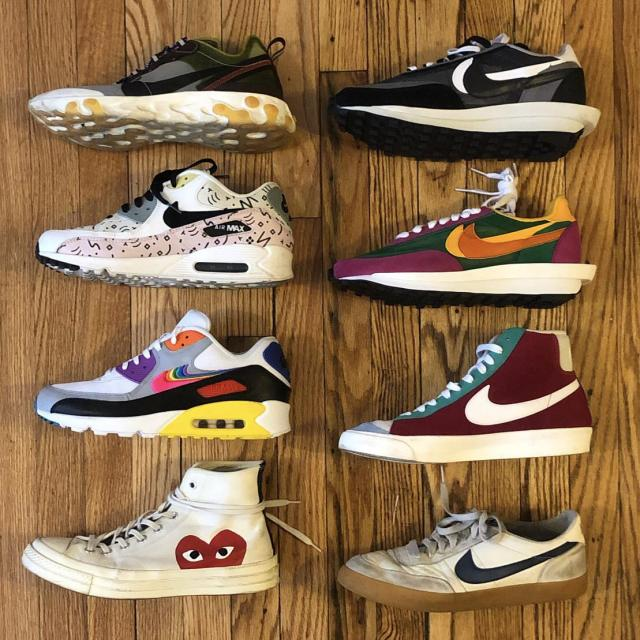shoe: (19, 453, 289, 612), (327, 156, 592, 317), (336, 316, 608, 469), (29, 304, 302, 454), (16, 28, 312, 163), (30, 153, 302, 297), (326, 30, 609, 167), (330, 498, 596, 619)
